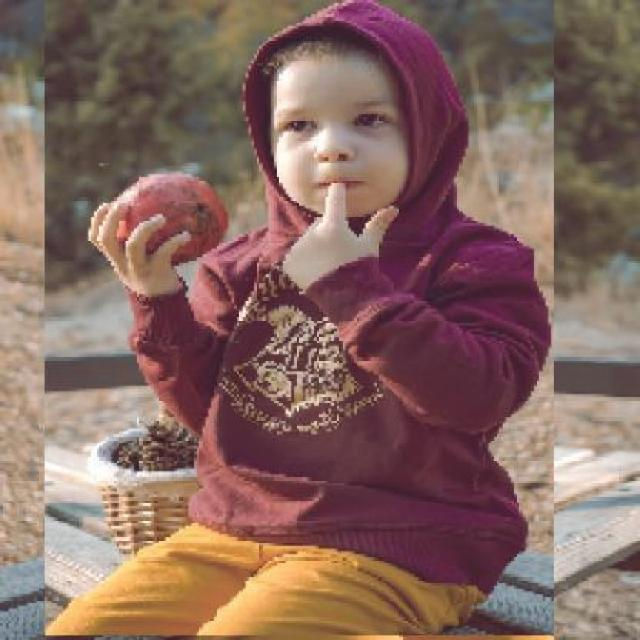child: (43, 0, 554, 637)
